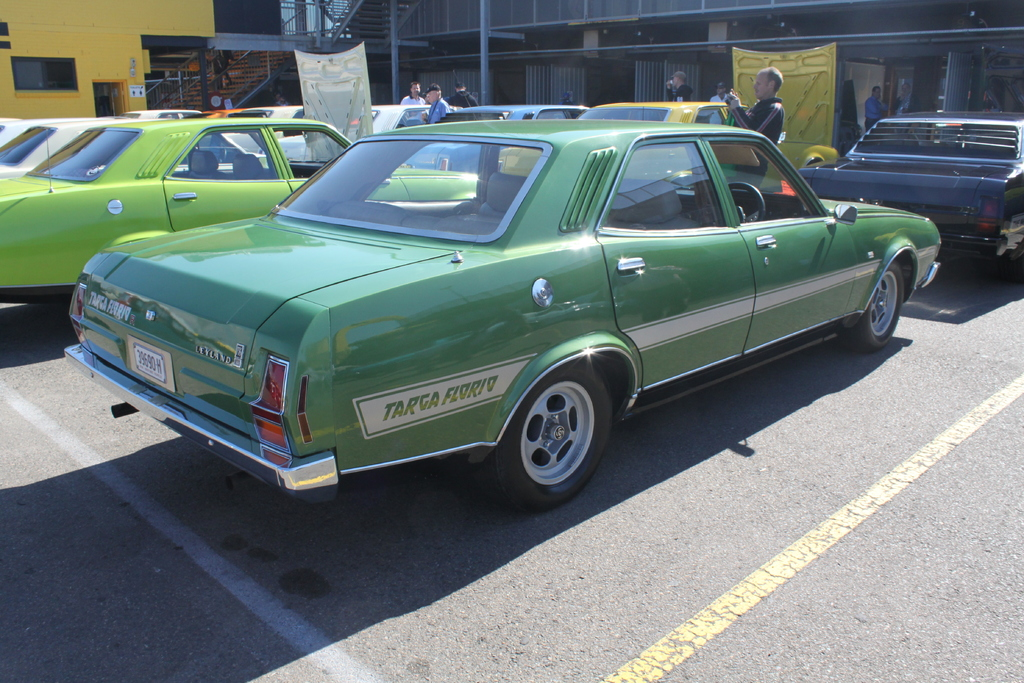Car: (0, 115, 1023, 500)
